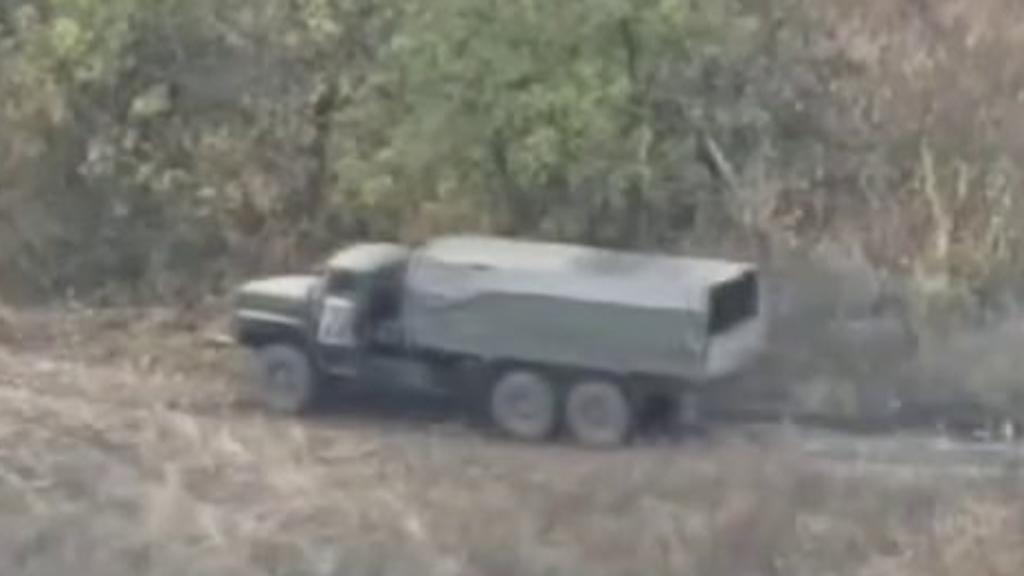TRUCK: (226, 225, 768, 442)
